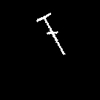double_crochet: (37, 13, 64, 53)
